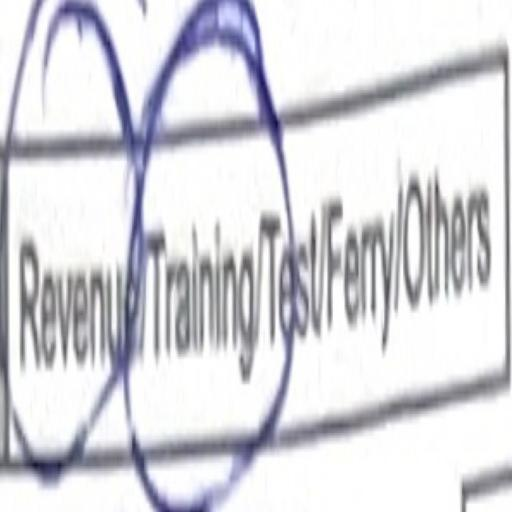check: (0, 1, 139, 502), (147, 0, 264, 512)
